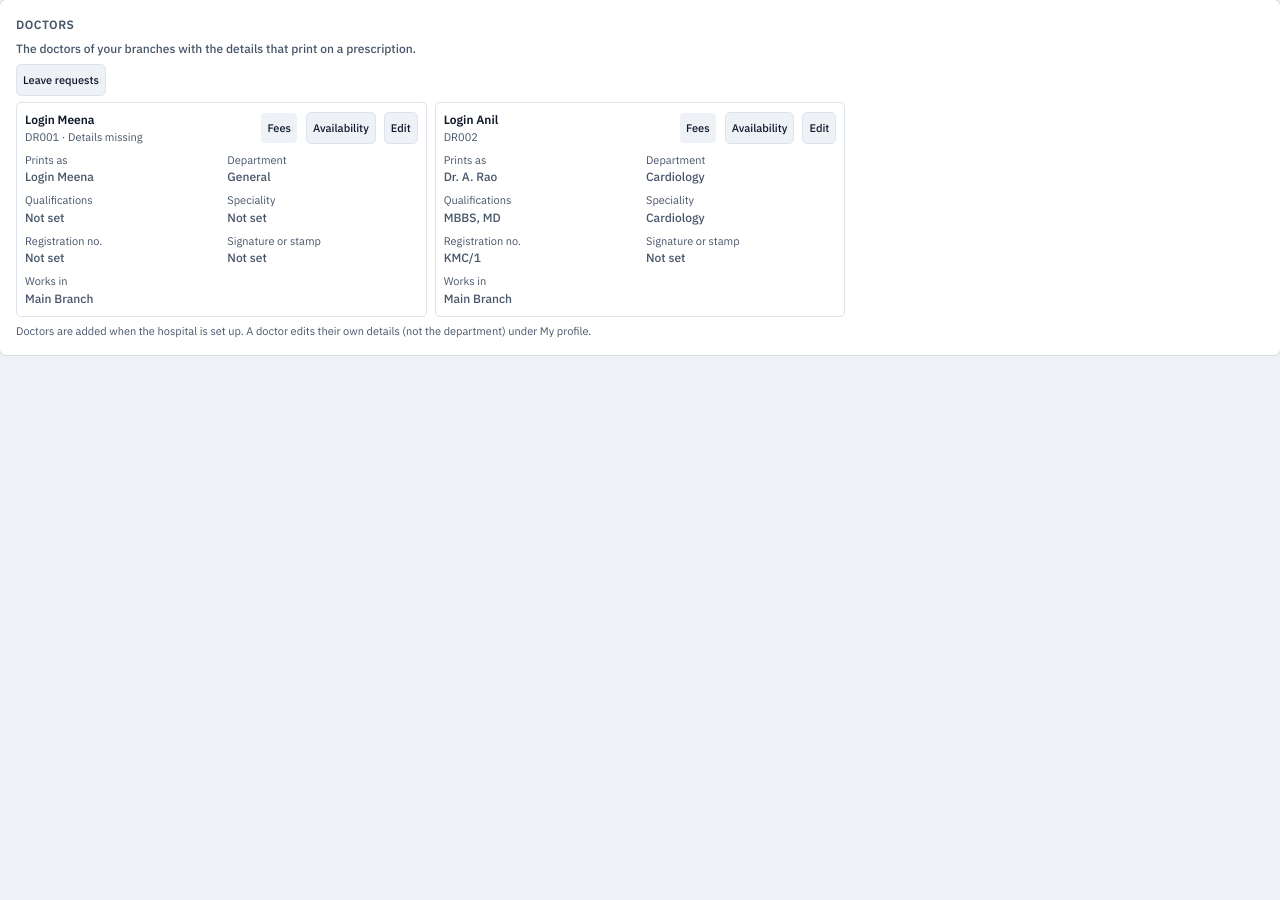
it: DoctorsList › sends one request for a double click on Save
Click the button "Edit" in the row of "· Details missing": (401, 128) [384,112,418,144]
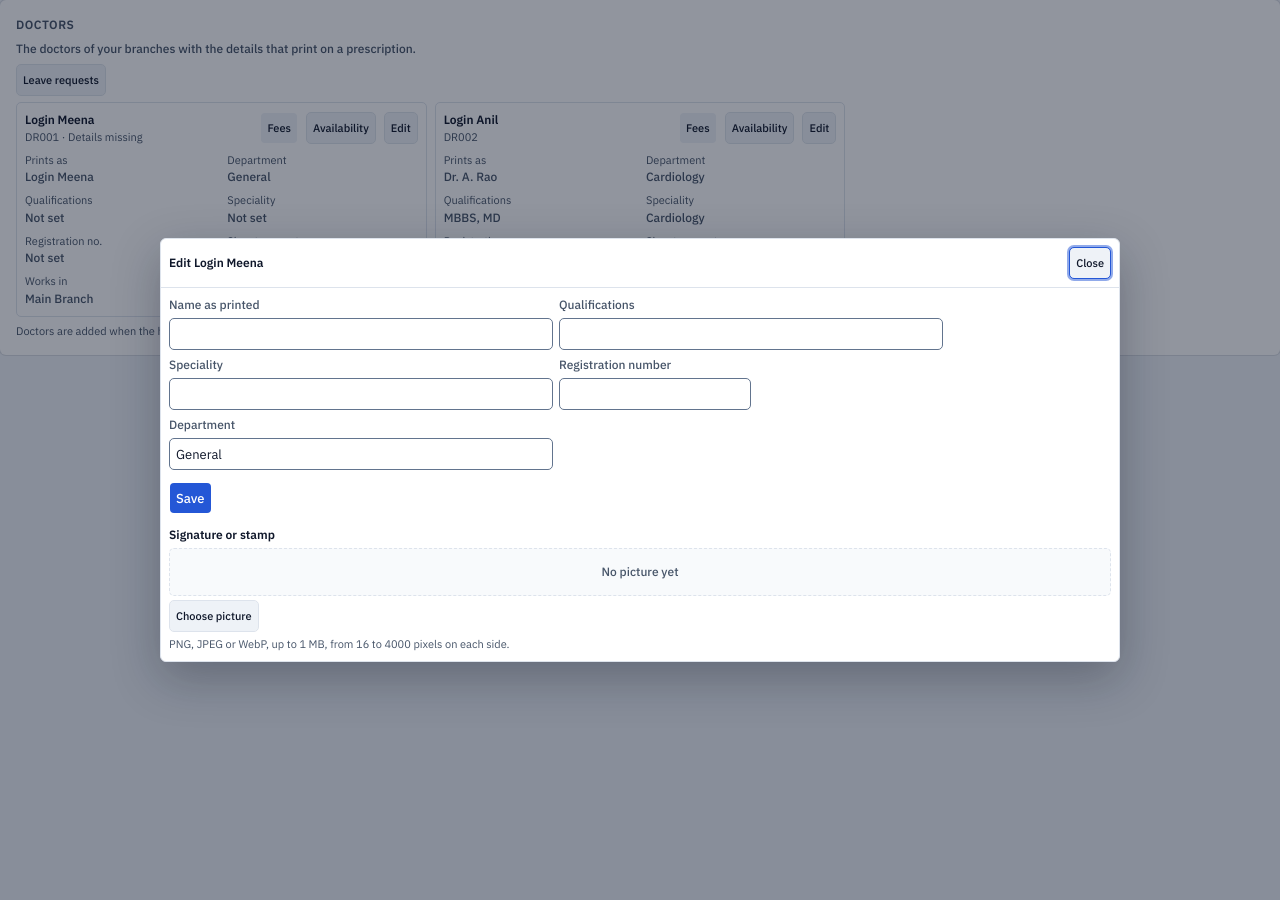
Click the button "Save": (190, 498) [169,482,212,514]
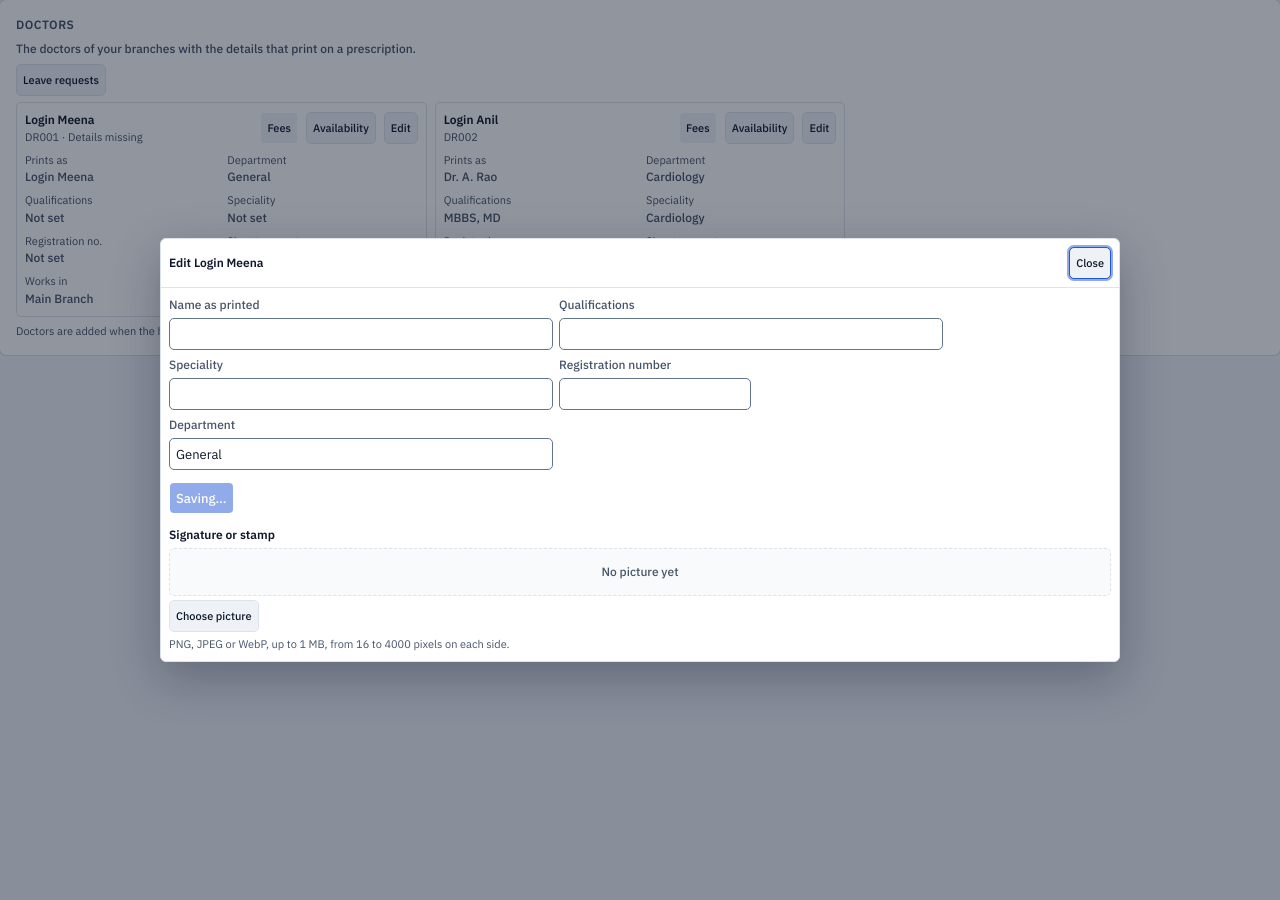
Click the button named "Save": (201, 498) [169,482,234,514]
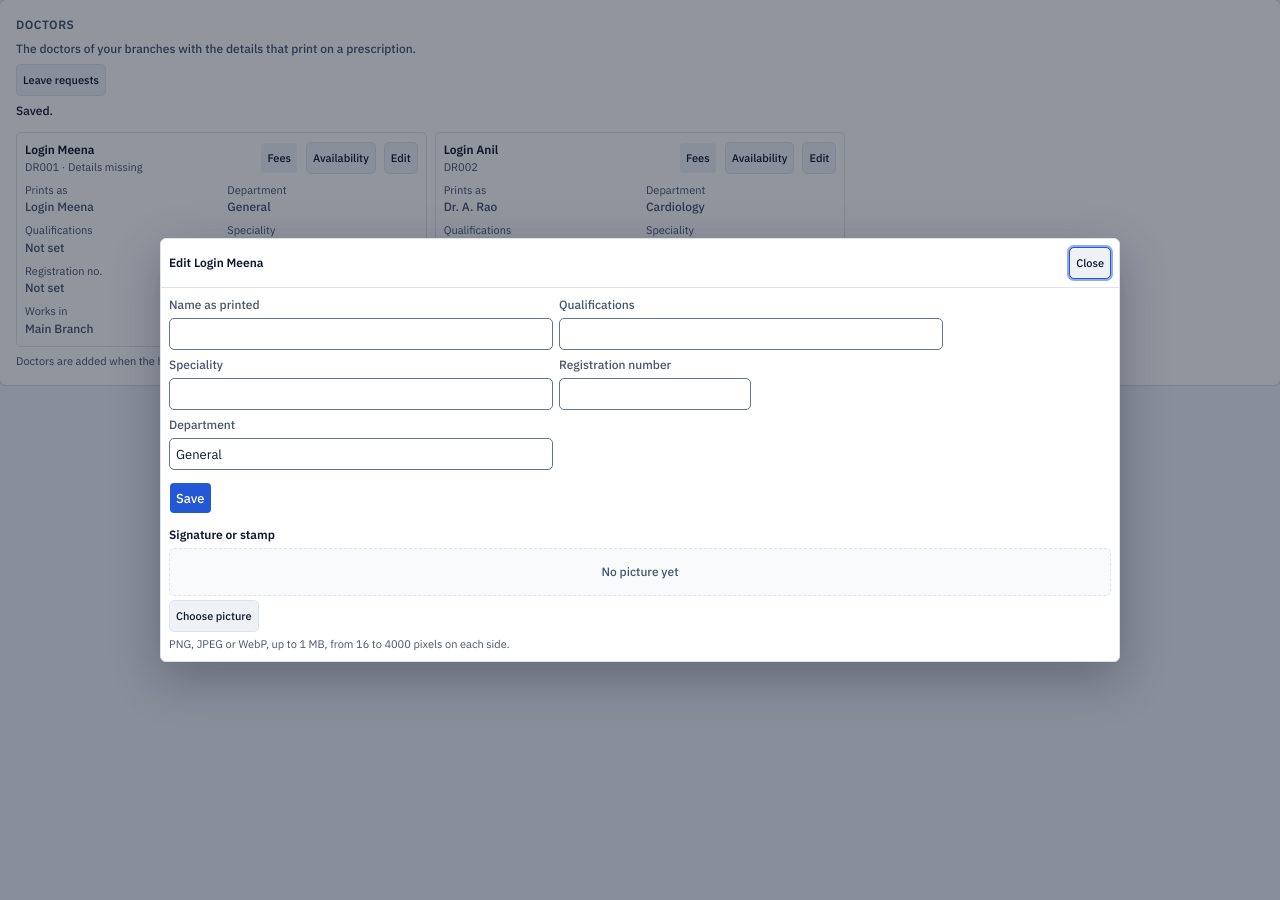
Now the message reads "Saved.", box [16,103,53,118]
